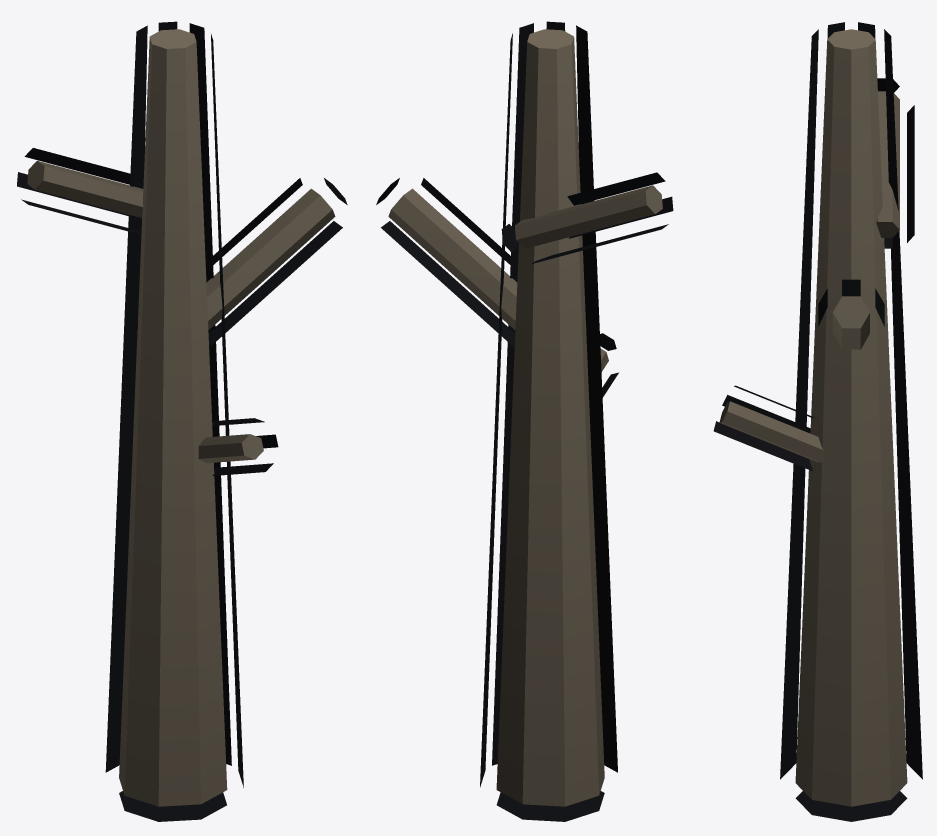
The model's file is prop_snag.glb.
The picture shows the model from 3 angles, left to right: view 1: azimuth 30°, elevation 25°; view 2: azimuth 150°, elevation 25°; view 3: azimuth 270°, elevation 25°; orthographic projection.
Parts seen in each view (by area): view 1: prop; view 2: prop; view 3: prop.
Part boxes in pixels (box(x1,y1,x2,y2)): prop: box(17, 21, 347, 821); prop: box(376, 21, 673, 821); prop: box(713, 22, 922, 821).
Bounding box in the file's own units: 1.91 × 4.58 × 1.17.
